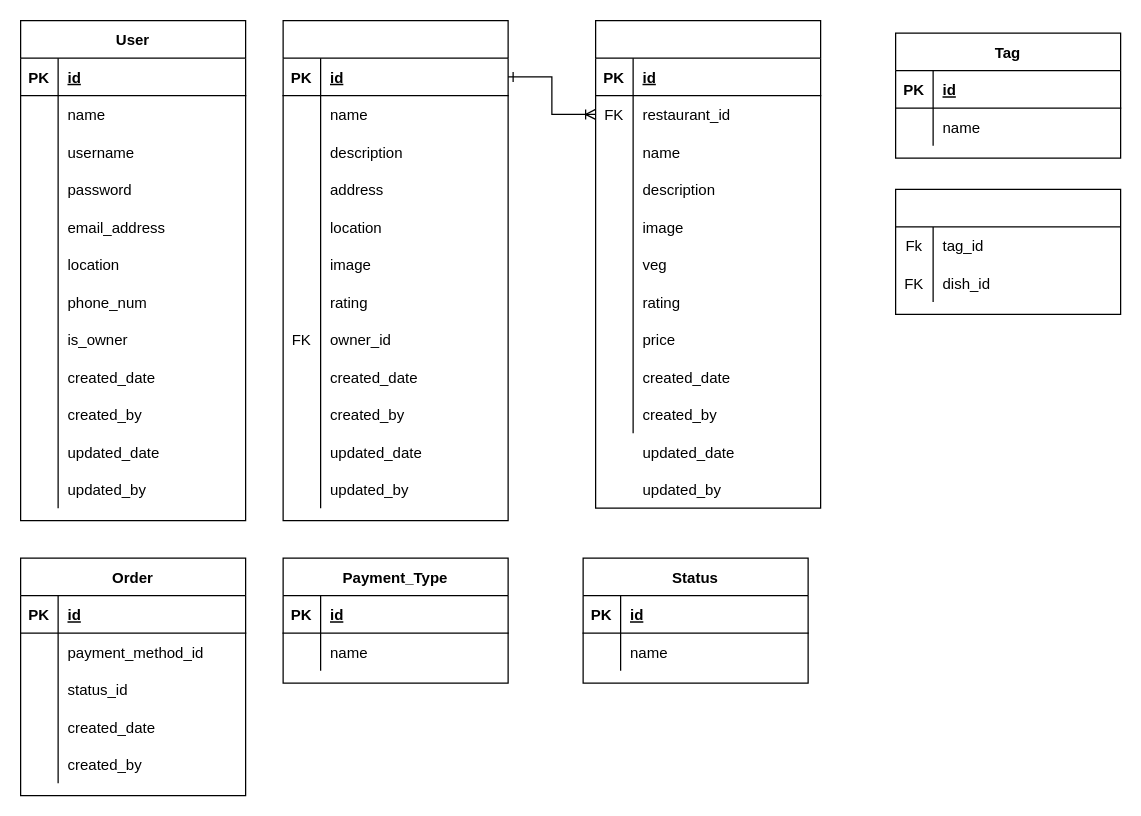
Image size: 1141x816. Some labels were removed from this diagram. Each missing label, with the box of its shape:
Dish: (594, 19, 821, 508)
Dish_Tag: (894, 188, 1121, 314)
Restaurant: (282, 19, 508, 521)
